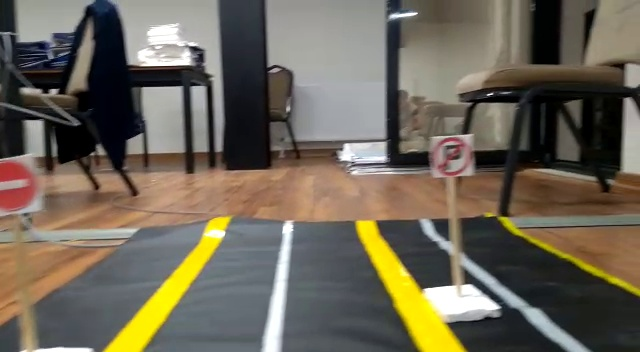girisi_olmayan_yol: (431, 132, 473, 175), (1, 161, 36, 212)
